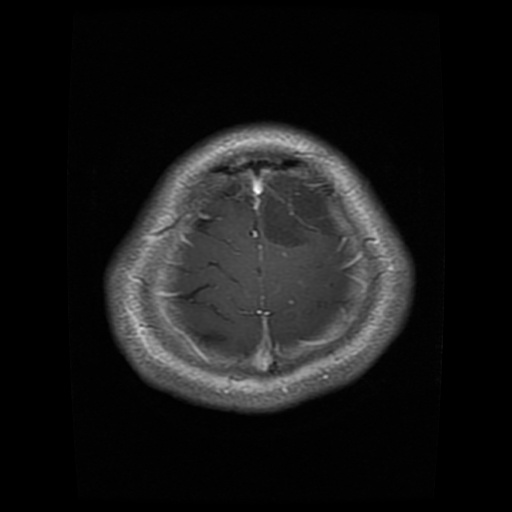glioma: (259, 172, 339, 247)
